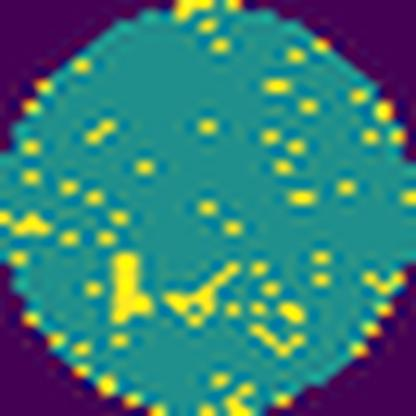Loc: (166, 260, 245, 326), (113, 254, 156, 321)
